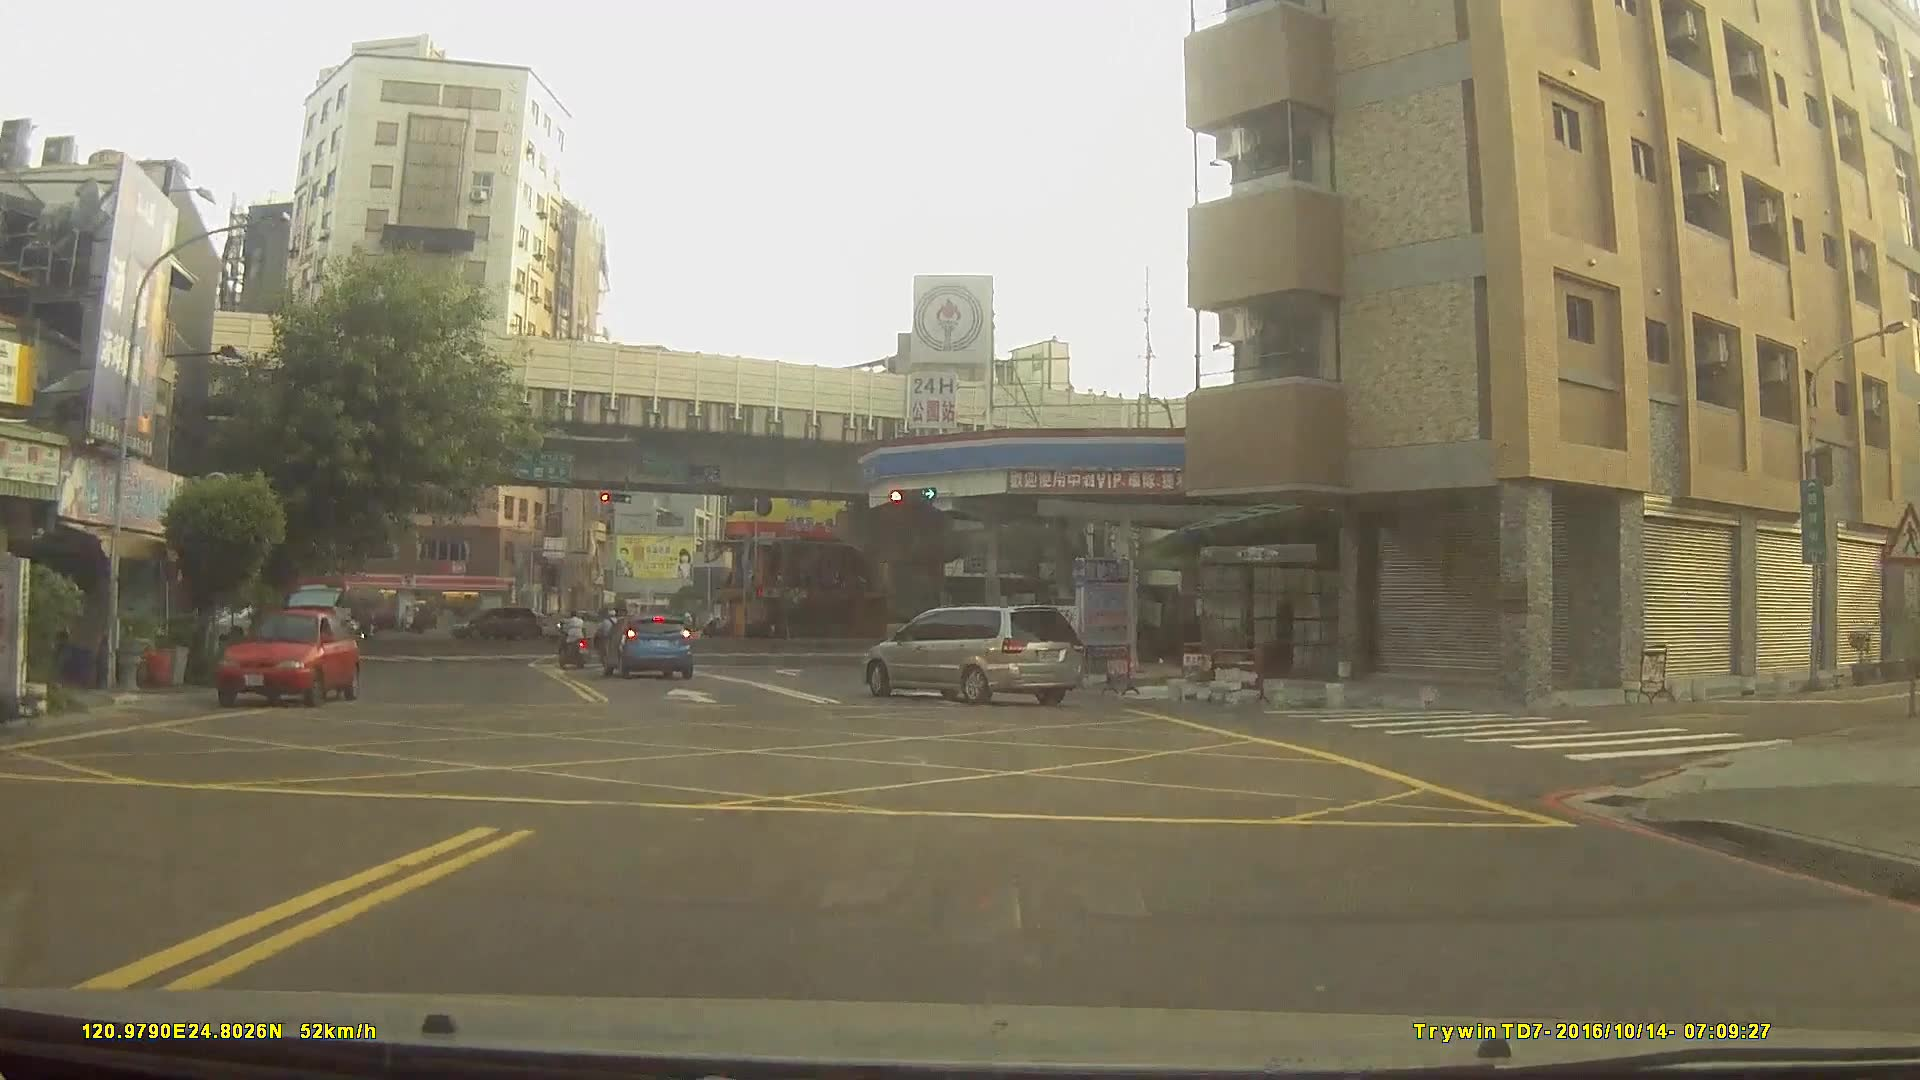rider: (554, 609, 587, 670)
vehicle: (862, 601, 1083, 702), (214, 604, 358, 707), (597, 609, 694, 676), (450, 606, 542, 642), (539, 604, 617, 637)
